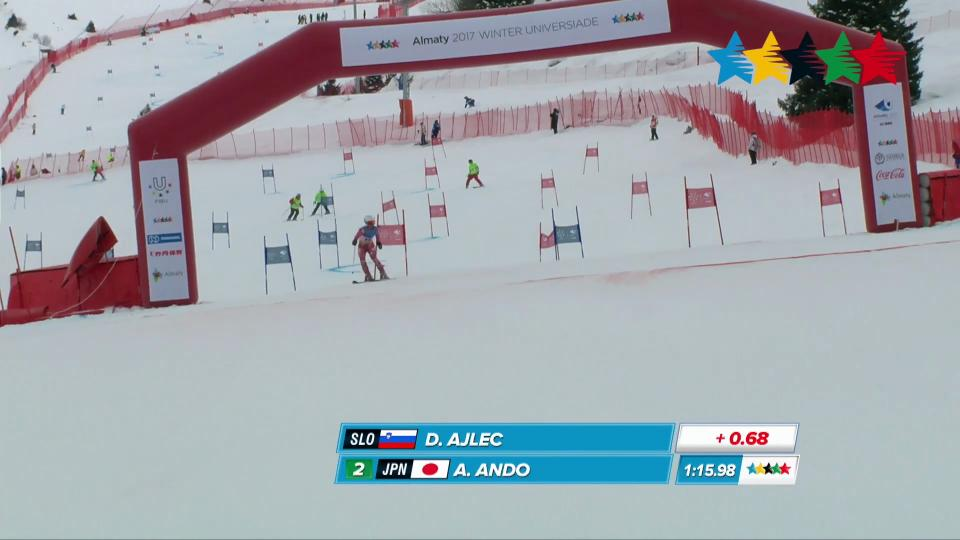gate: (672, 178, 696, 255), (705, 173, 729, 244)
